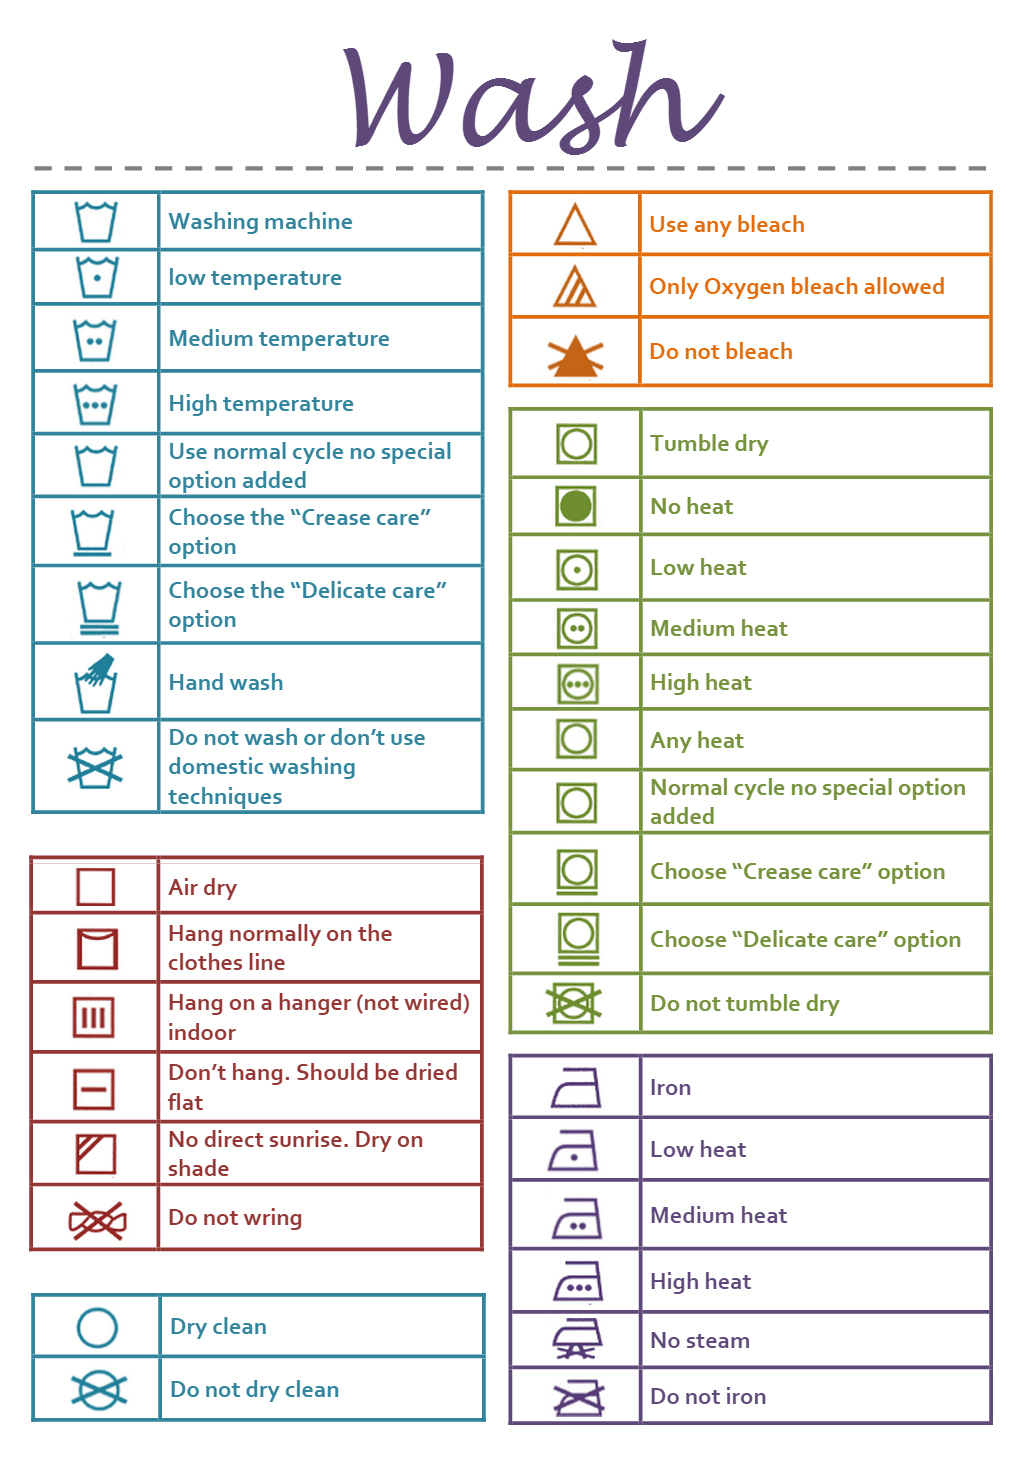do_not_bleach: (542, 334, 610, 379)
do_not_dry_clean: (60, 1371, 135, 1414)
do_not_iron: (542, 1381, 617, 1418)
do_not_wash: (55, 746, 135, 796)
